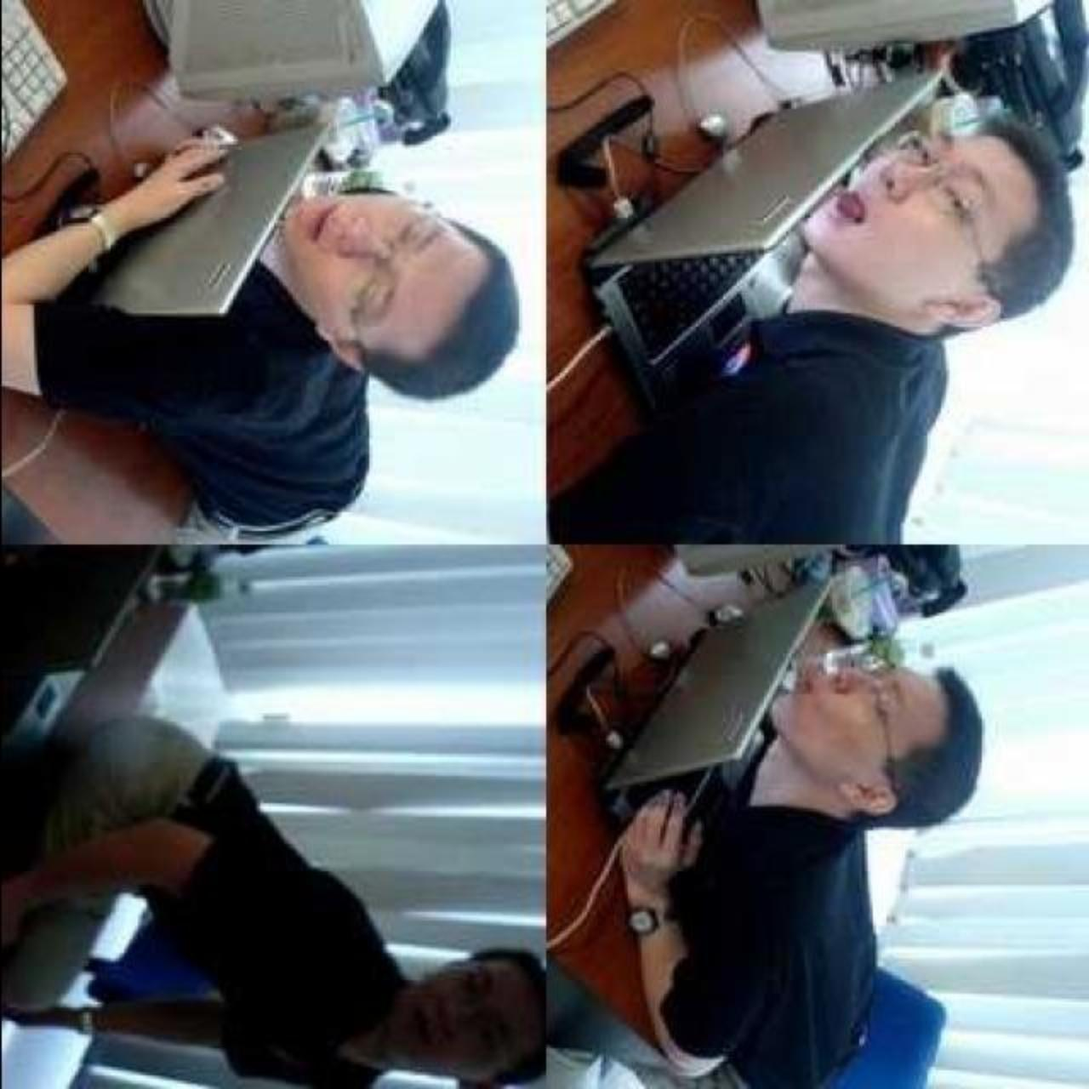laptop: (582, 71, 929, 391), (578, 567, 852, 876)
